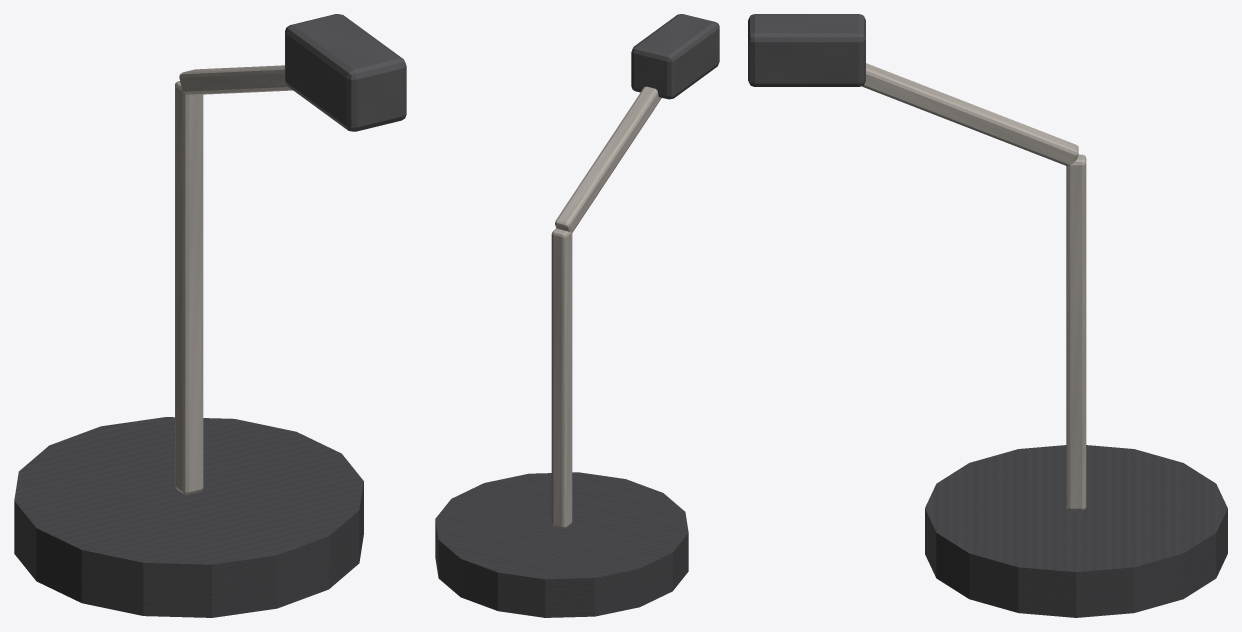
The model's file is desktop_microphone.glb.
3 views of the same model, side by side, from view 1: azimuth 30°, elevation 25°; view 2: azimuth 150°, elevation 25°; view 3: azimuth 270°, elevation 25° (orthographic). The views are drawn at different scales.
Visible parts, largest first — view 1: base.016, stem, microphone.001, boom; view 2: base.016, stem, microphone.001, boom; view 3: base.016, microphone.001, stem, boom.
Boxes of the visible parts, x1,y1,x2,y2 form: base.016: (14,417,363,617); stem: (175,81,203,494); microphone.001: (285,14,406,131); boom: (179,65,292,95); base.016: (435,472,688,617); stem: (551,228,572,528); microphone.001: (631,14,719,99); boom: (555,86,661,232); base.016: (925,445,1227,617); microphone.001: (748,14,865,86); stem: (1066,154,1086,510); boom: (862,63,1078,166).
Bounding box in the file's own units: 0.18 × 0.3475 × 0.285.
Materials: 3 (3 with a texture image).
